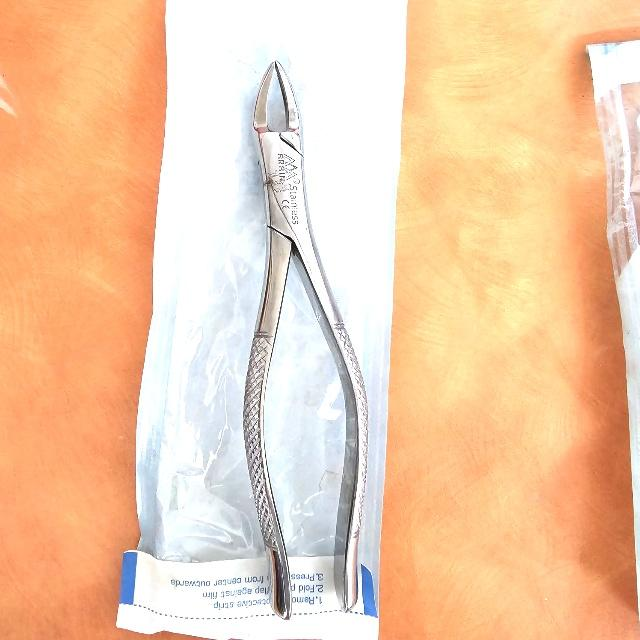forceps: (245, 62, 367, 620)
